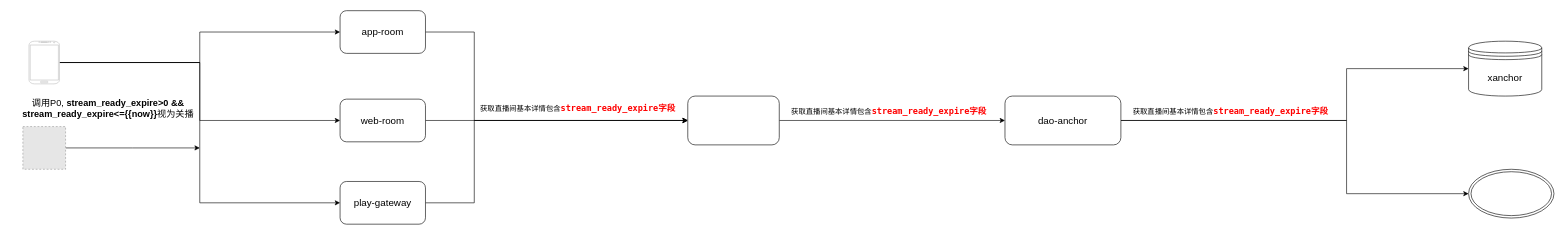
The diagram is 1565 pixels wide and 235 high, and some of its shapes have lost their labels. Grey dashed boxes stand in for pictures. Each missing label, with the box of its shape:
redis: (1468, 169, 1554, 218)
xroom: (687, 95, 779, 145)
